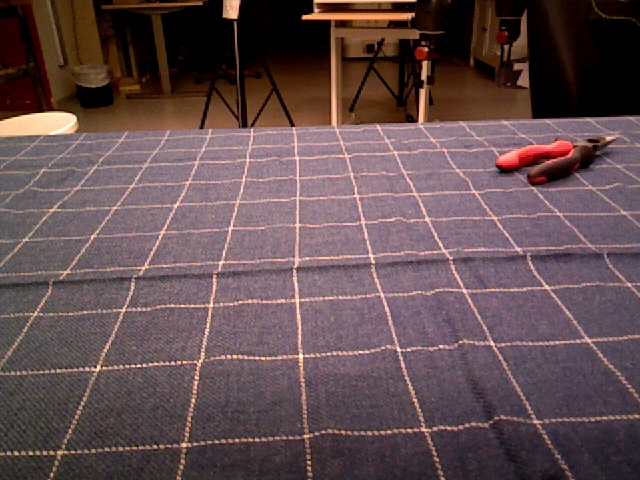plier1: (497, 131, 624, 186)
